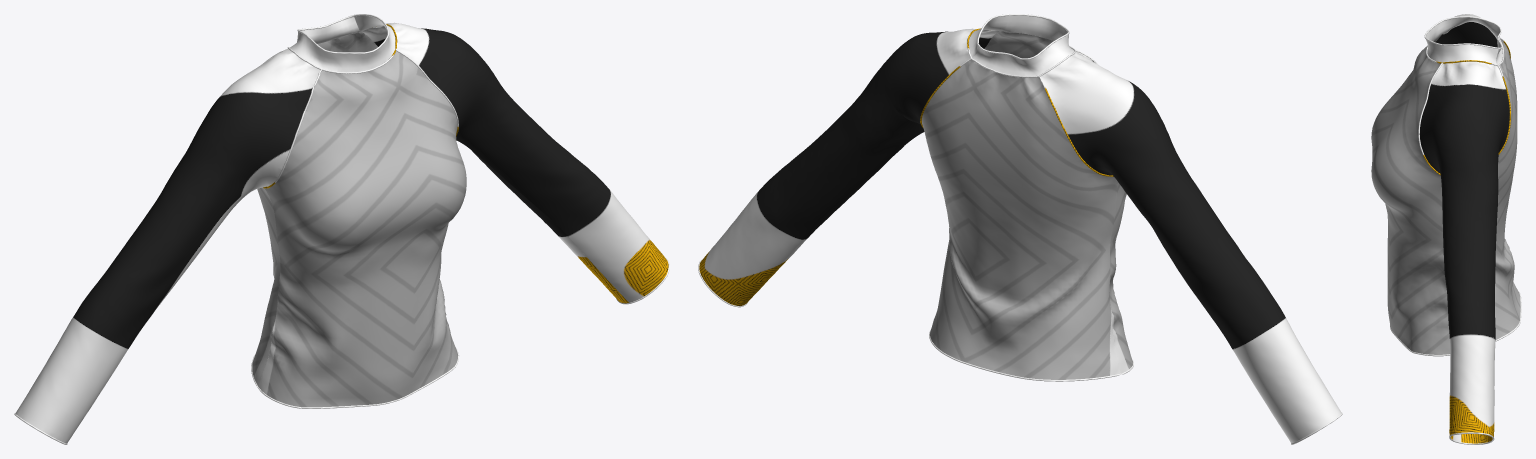
File: Quad.fbx
3 renders of one model, left to right at view 1: azimuth 30°, elevation 25°; view 2: azimuth 150°, elevation 25°; view 3: azimuth 270°, elevation 25°, orthographic. The views are drawn at different scales.
Parts seen in each view (by area): view 1: Quad; view 2: Quad; view 3: Quad.
Part boxes in pixels (x1,y1,x2,y2): Quad: (14, 14, 669, 444); Quad: (698, 14, 1342, 444); Quad: (1371, 14, 1521, 444).
Bounding box in the file's own units: 105 × 54.37 × 24.54.
